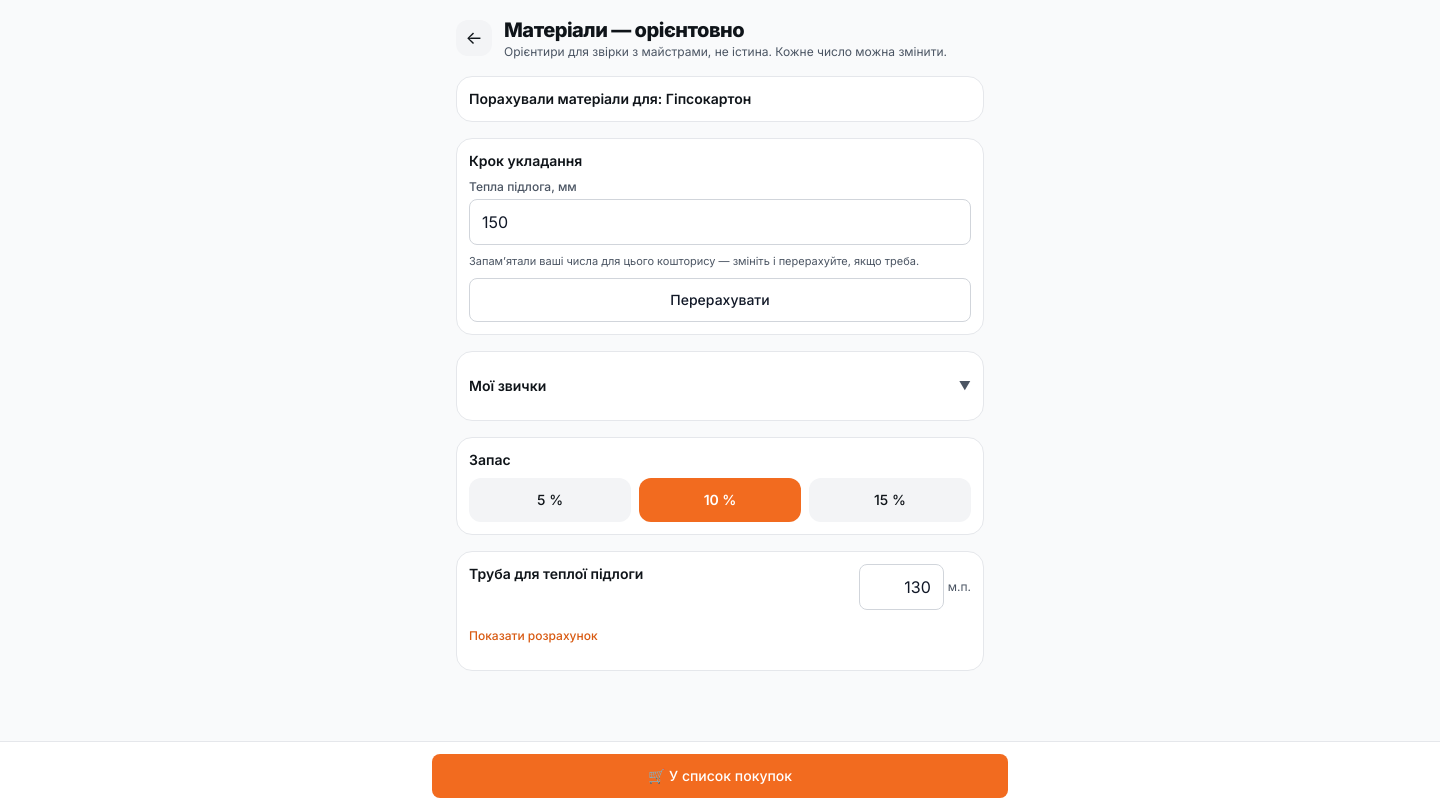
Test: MaterialCalculatorPage › writes a spacing after the coefficient, as a division
Click the button "Показати розрахунок" at (533, 636), box [469, 614, 598, 658]
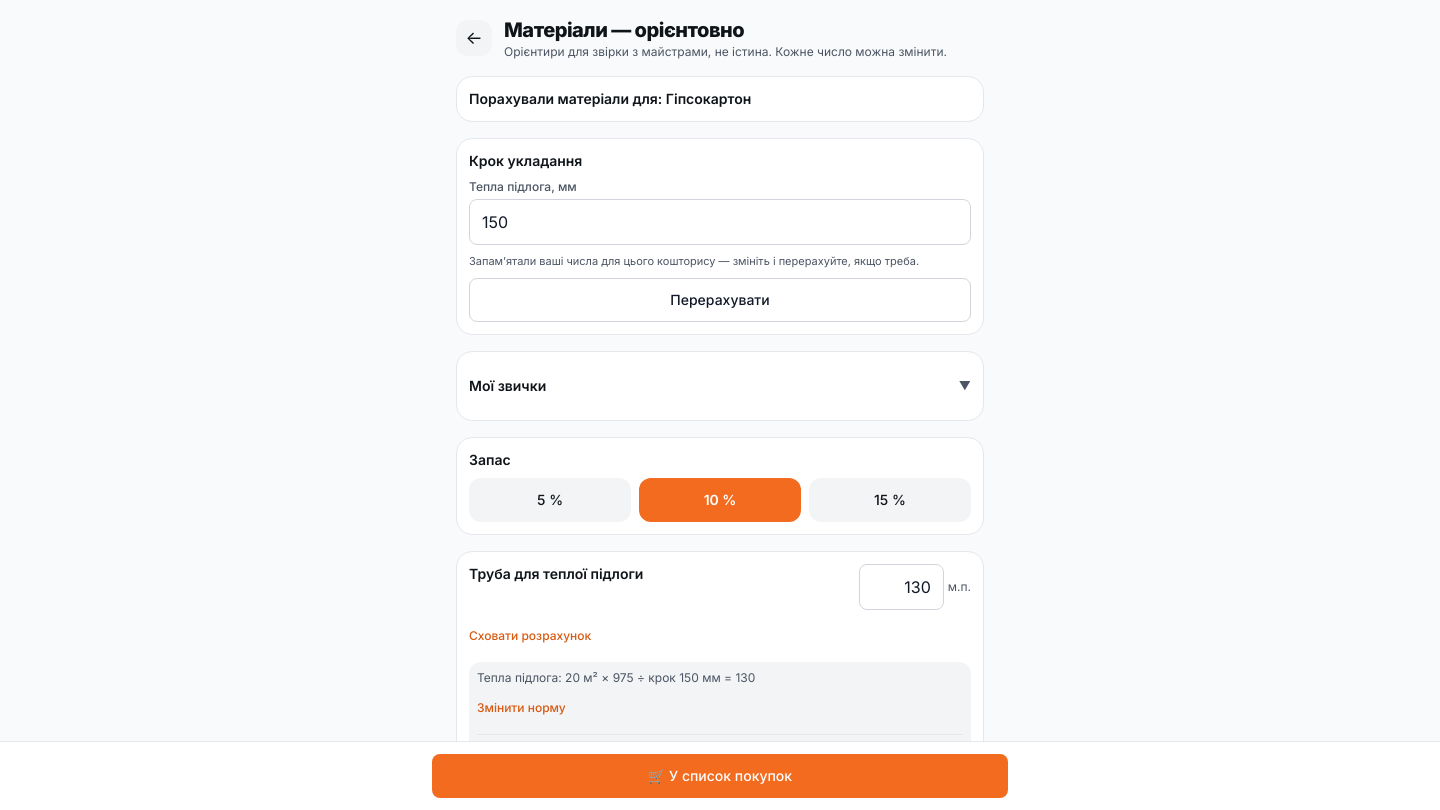
Expected: the text "Тепла підлога: 20 м² × 975 ÷ крок 150 мм = 130" is shown, [477, 670, 755, 684]
